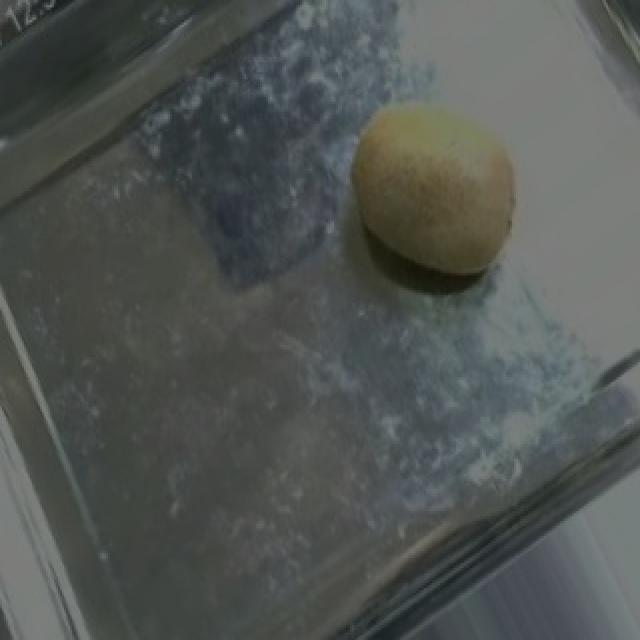Fruit: (318, 72, 558, 312)
